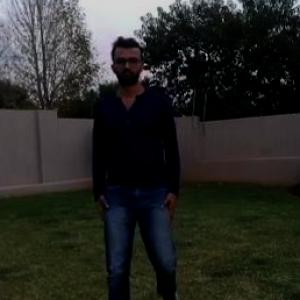follow: (93, 57, 167, 299)
